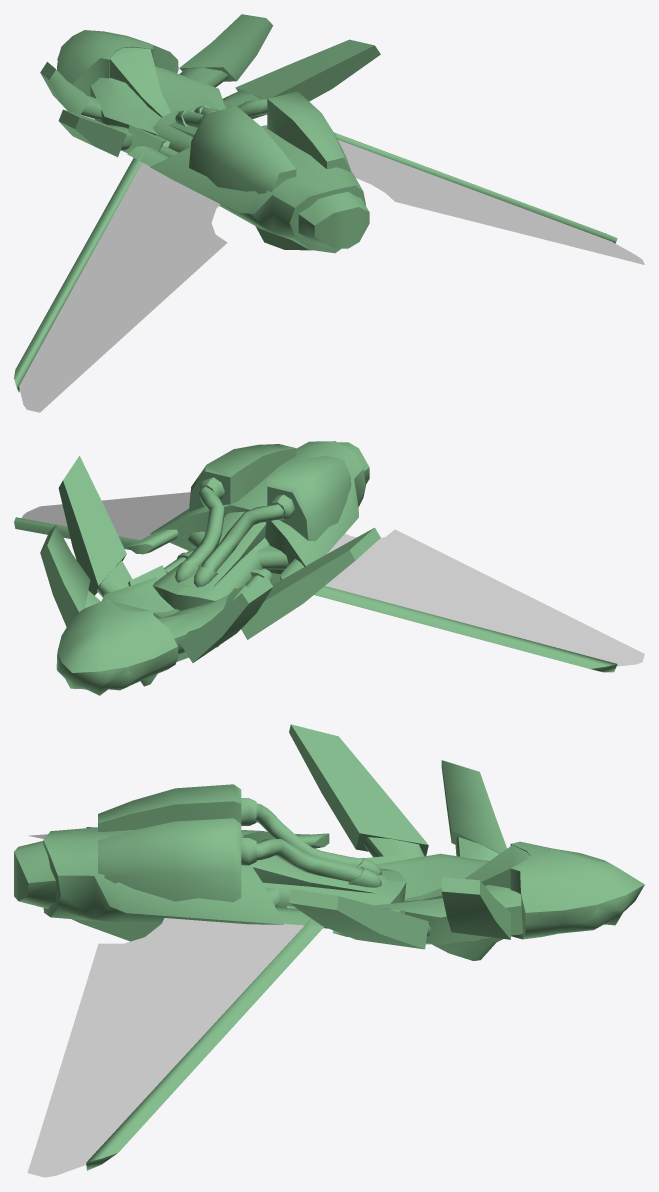
The model's file is ship19c.obj.
3 renders of one model, top to bottom at view 1: azimuth 30°, elevation 25°; view 2: azimuth 150°, elevation 25°; view 3: azimuth 270°, elevation 25°, orthographic. The views are drawn at different scales.
Visible parts, largest first — view 1: Mesh, Mesh.001; view 2: Mesh, Mesh.001; view 3: Mesh, Mesh.001.
Boxes of the visible parts, <box> form: Mesh: <box>14,14,617,392</box>; Mesh.001: <box>19,140,644,412</box>; Mesh: <box>14,441,617,695</box>; Mesh.001: <box>22,492,644,666</box>; Mesh: <box>14,724,644,1170</box>; Mesh.001: <box>27,834,304,1177</box>.
Size of the model in its own units: 37114 by 10056 by 28836.
